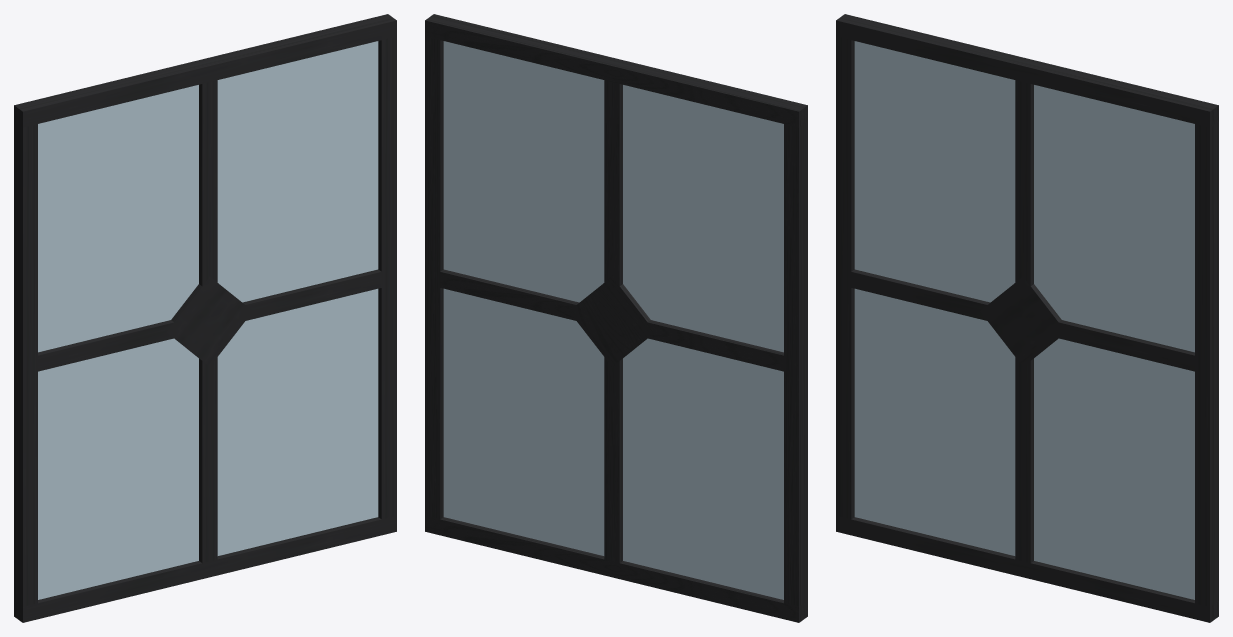
The model's file is Window.fbx.
3 views of the same model, side by side, from view 1: azimuth 30°, elevation 25°; view 2: azimuth 150°, elevation 25°; view 3: azimuth 330°, elevation 25° (orthographic).
Visible parts, largest first — view 1: Glass, Frame; view 2: Glass, Frame; view 3: Glass, Frame.
Boxes of the visible parts, x1,y1,x2,y2 form: Glass: [38, 41, 378, 599]; Frame: [14, 14, 396, 622]; Glass: [443, 41, 783, 599]; Frame: [425, 14, 807, 622]; Glass: [854, 41, 1194, 599]; Frame: [836, 14, 1218, 622].
Bounding box in the file's own units: 490 × 640 × 20.
